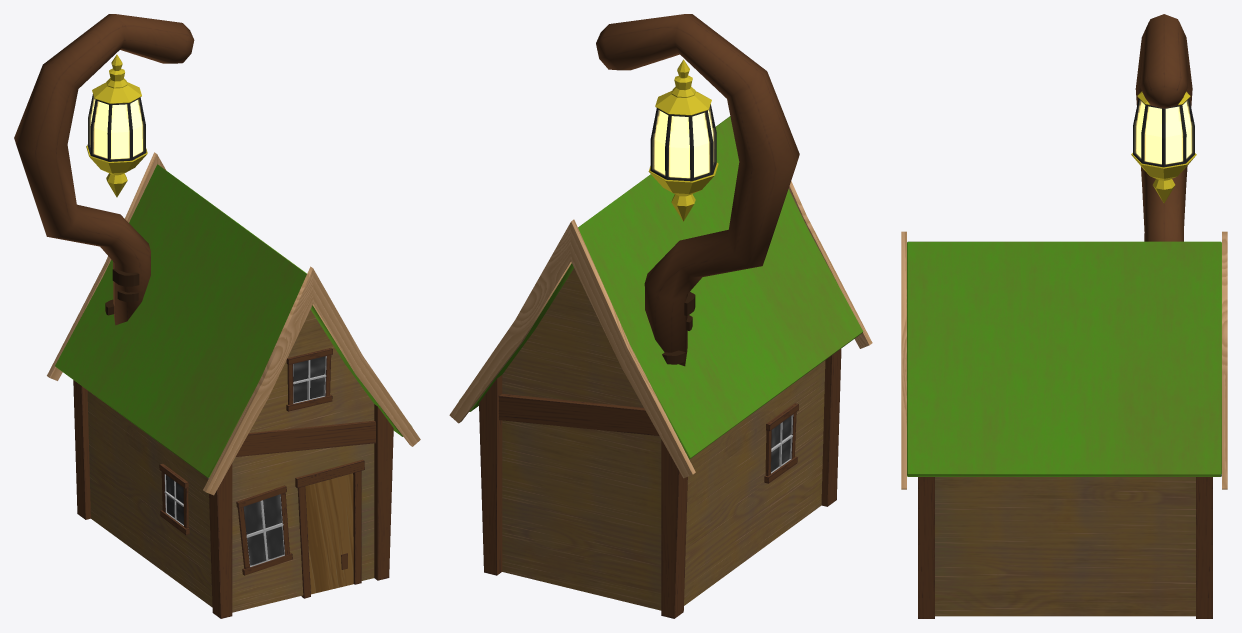
Rendered from Stage_house.fbx.
3 views of the same model, side by side, from view 1: azimuth 30°, elevation 25°; view 2: azimuth 150°, elevation 25°; view 3: azimuth 270°, elevation 25° (orthographic). The views are drawn at different scales.
Visible parts, largest first — view 1: Stage_house.005_L, Stage_house.003_L, Stage_house.001_L, Stage_house.004_L, Stage_house.002_L; view 2: Stage_house.003_L, Stage_house.005_L, Stage_house.001_L, Stage_house.004_L, Stage_house.002_L; view 3: Stage_house.005_L, Stage_house.003_L, Stage_house.001_L, Stage_house.004_L.
Part boxes in pixels (<box>): Stage_house.005_L: <box>55,164,411,478</box>; Stage_house.003_L: <box>87,310,374,612</box>; Stage_house.001_L: <box>14,14,393,618</box>; Stage_house.004_L: <box>47,54,420,594</box>; Stage_house.002_L: <box>159,347,375,575</box>; Stage_house.003_L: <box>502,268,825,610</box>; Stage_house.005_L: <box>459,116,863,459</box>; Stage_house.001_L: <box>479,14,841,618</box>; Stage_house.004_L: <box>449,59,872,478</box>; Stage_house.002_L: <box>499,394,798,483</box>; Stage_house.005_L: <box>907,241,1221,476</box>; Stage_house.003_L: <box>935,477,1195,616</box>; Stage_house.001_L: <box>918,14,1212,618</box>; Stage_house.004_L: <box>901,91,1227,489</box>.
Size of the model in its own units: 404 by 723 by 403.
